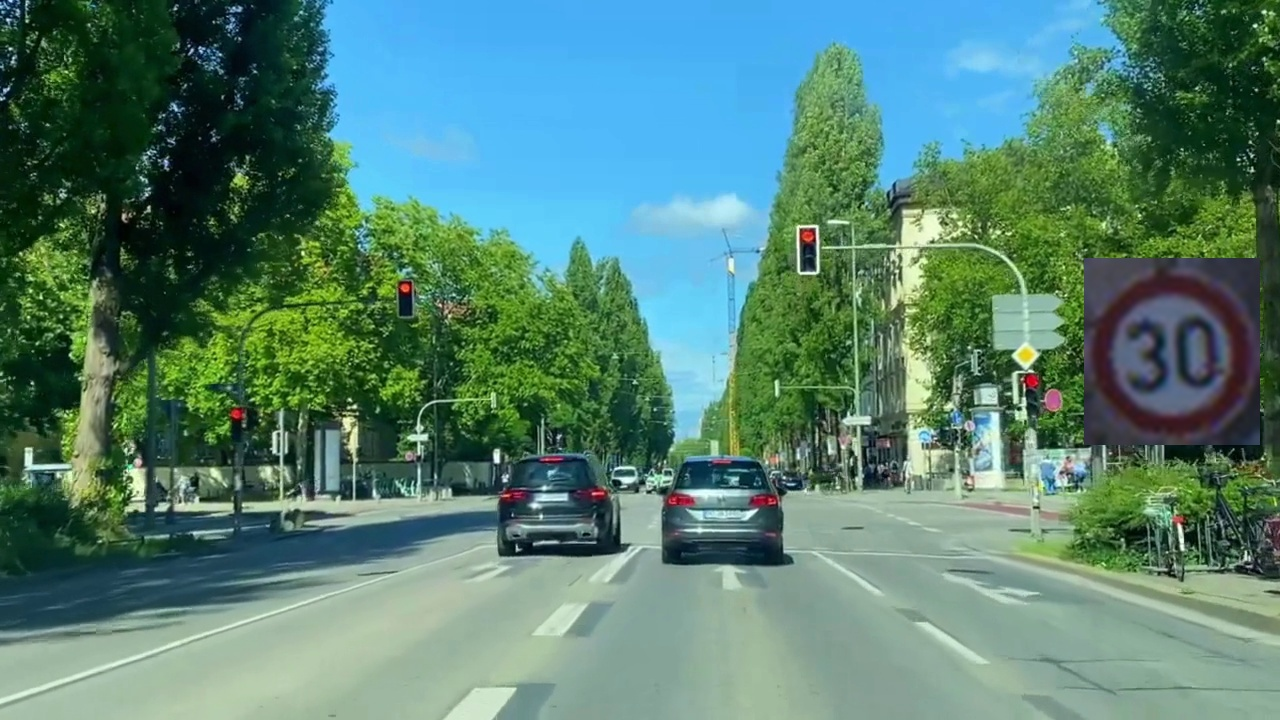Speed 30: (1084, 258, 1260, 445)
